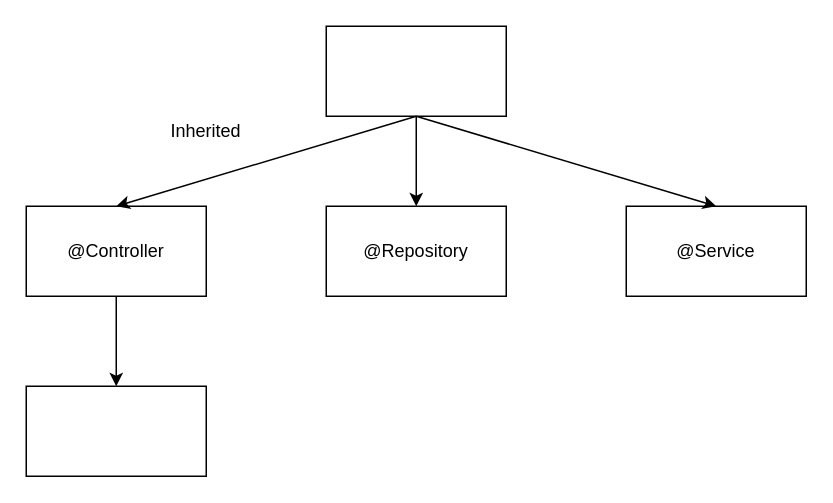
The diagram is 833 pixels wide and 503 high, and some of its shapes have lost their labels. The shapes that lost their labels are listed below. From the top down, each one's centre as x and y in pixels, then its label:
the point at 415,70: @Components
the point at 115,430: @RestController
